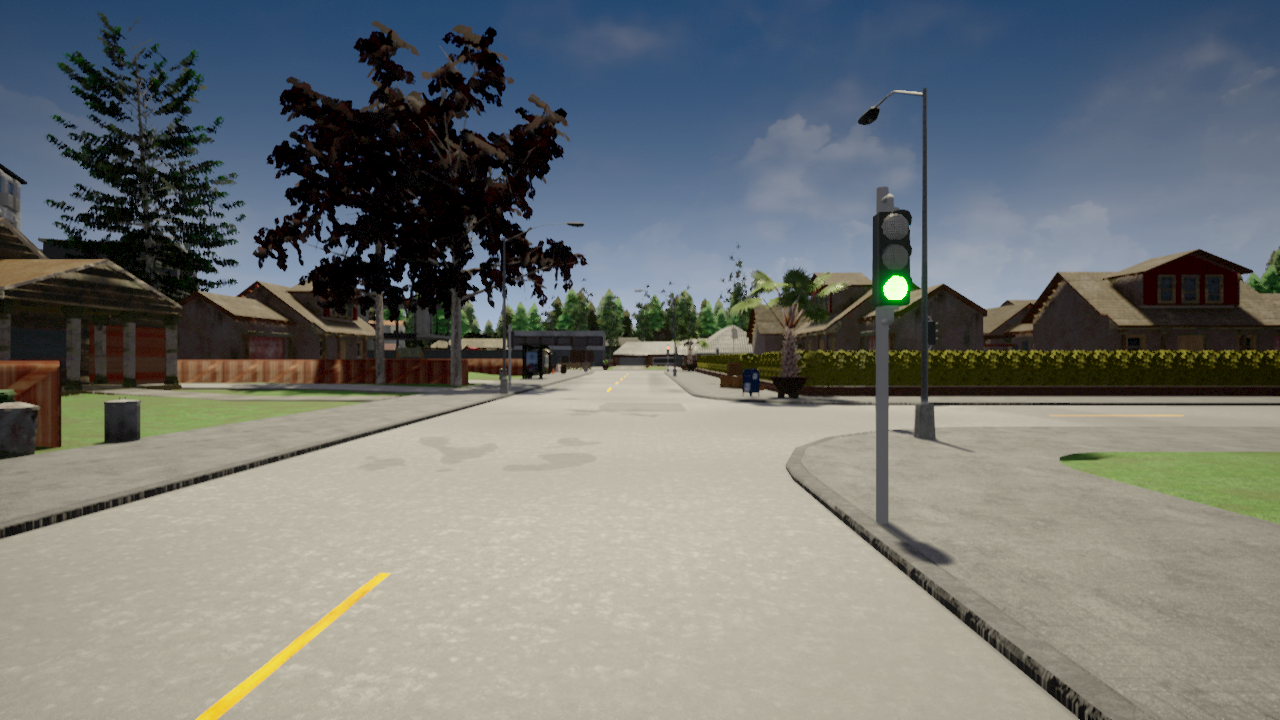green: (871, 204, 914, 305)
